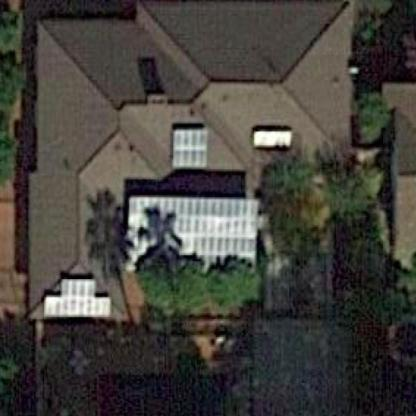solar_panel: (119, 184, 262, 283), (40, 273, 119, 323), (158, 119, 218, 179)
